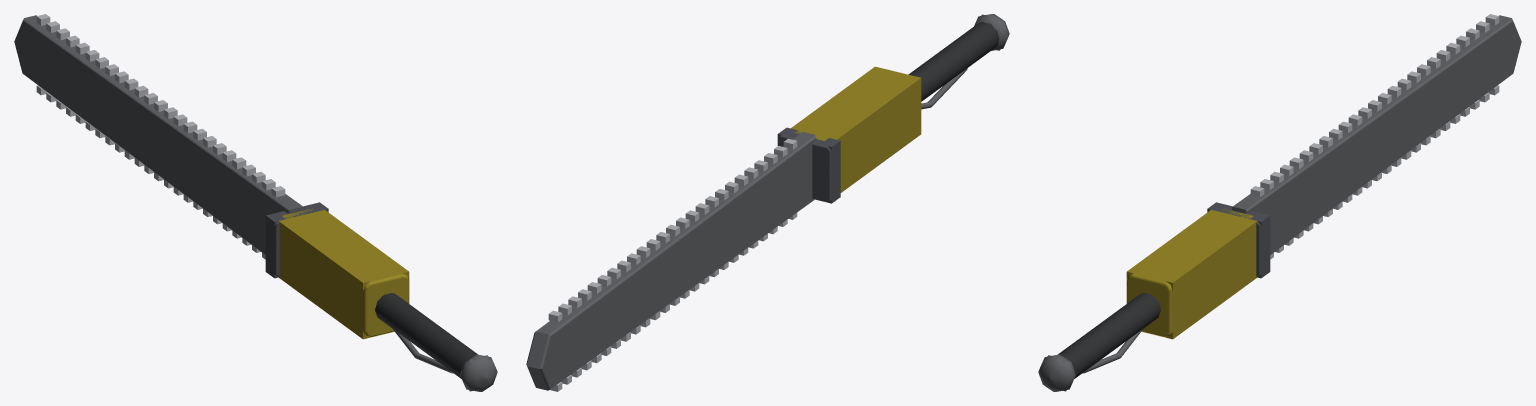
File: m_chainblade.glb
The picture shows the model from 3 angles, left to right: view 1: azimuth 30°, elevation 25°; view 2: azimuth 150°, elevation 25°; view 3: azimuth 330°, elevation 25°; orthographic projection.
Parts seen in each view (by area): view 1: L0, L1; view 2: L0, L1; view 3: L0, L1.
Part boxes in pixels (x1,y1,x2,y2): L0: [14, 14, 497, 391]; L1: [265, 202, 496, 391]; L0: [526, 14, 1009, 391]; L1: [777, 14, 1000, 203]; L0: [1038, 14, 1521, 391]; L1: [1039, 202, 1270, 391].
Size of the model in its own units: 0.07 by 0.094 by 1.04.
